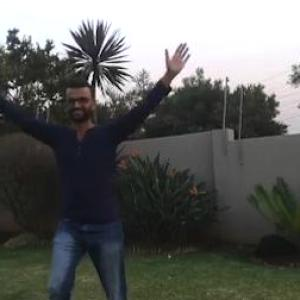takeoff: (1, 51, 195, 299)
